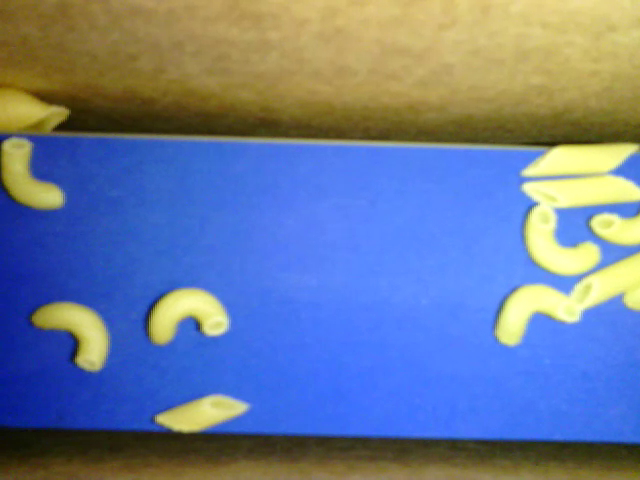elbow: (490, 274, 584, 358), (522, 199, 602, 280), (25, 300, 111, 373), (147, 280, 230, 349), (2, 139, 71, 212), (590, 197, 639, 251)
penne: (150, 387, 258, 440), (516, 137, 636, 178), (567, 250, 637, 317), (517, 180, 635, 210)
shell: (3, 87, 84, 131)
